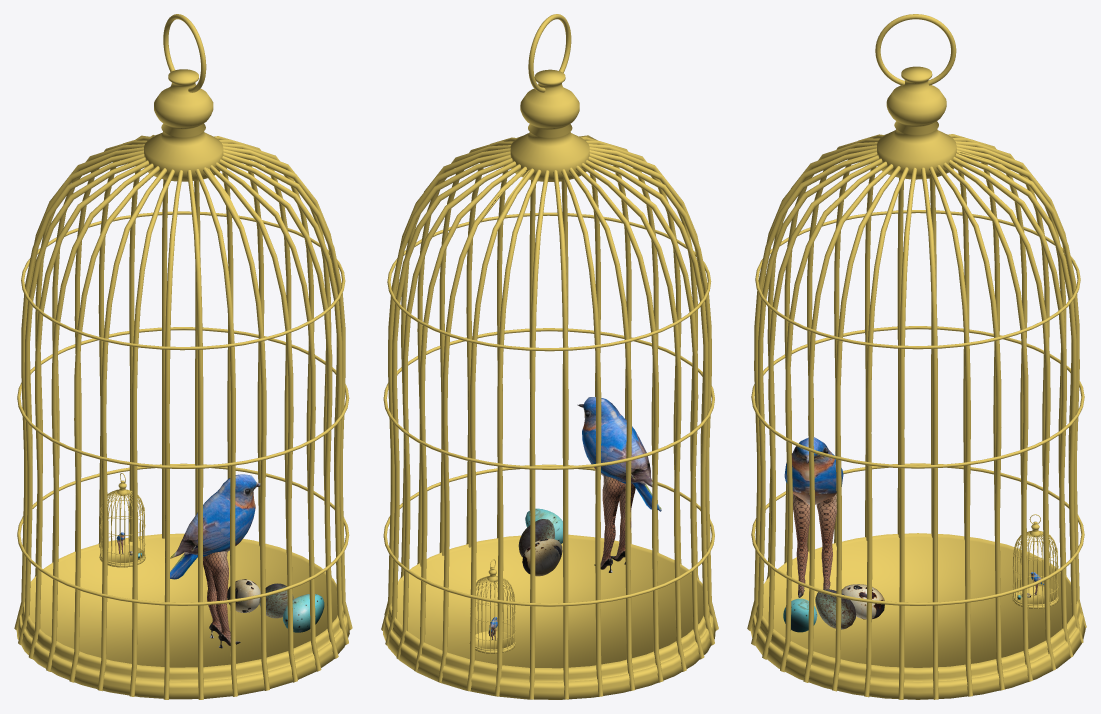
File: bluebirdladyscene2.gltf
3 views of the same model, side by side, from view 1: azimuth 30°, elevation 25°; view 2: azimuth 150°, elevation 25°; view 3: azimuth 270°, elevation 25° (orthographic).
Parts seen in each view (by area): view 1: BezierCircle.001, birdbod.001, BezierCircle.004, Cylinder.004, Cylinder.005, Cylinder.007, Cylinder.006; view 2: BezierCircle.001, birdbod.001, BezierCircle.004, Cylinder.004, Cylinder.007, Cylinder.006; view 3: BezierCircle.001, Cylinder.004, birdbod.001, BezierCircle.004, Cylinder.006, Cylinder.007, Cylinder.005.
Boxes of the visible parts, x1,y1,x2,y2 form: BezierCircle.001: (14, 14, 352, 699); birdbod.001: (170, 474, 260, 579); BezierCircle.004: (99, 473, 145, 567); Cylinder.004: (203, 551, 240, 648); Cylinder.005: (283, 594, 324, 632); Cylinder.007: (227, 579, 260, 612); Cylinder.006: (259, 583, 293, 618); BezierCircle.001: (381, 14, 718, 699); birdbod.001: (577, 397, 661, 511); BezierCircle.004: (469, 559, 515, 653); Cylinder.004: (594, 475, 635, 572); Cylinder.007: (522, 538, 562, 576); Cylinder.006: (518, 519, 554, 557); BezierCircle.001: (747, 14, 1086, 699); Cylinder.004: (793, 494, 836, 597); birdbod.001: (784, 437, 843, 504); BezierCircle.004: (1012, 514, 1058, 608); Cylinder.006: (815, 589, 856, 629); Cylinder.007: (841, 584, 884, 619); Cylinder.005: (783, 598, 817, 632).
Bounding box in the file's own units: 2215 × 4462 × 2226.
Materials: 11 (4 with a texture image).
